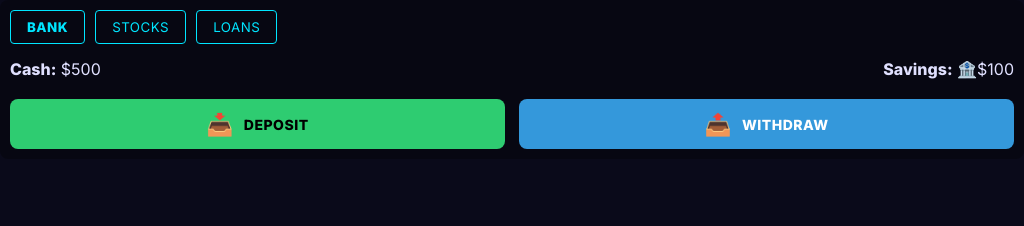
Test: BankInterface › BankInterface renders Stocks tab even when rules are passed and allows switching to Stocks tab
// Click Stocks tab
Click the button "Stocks". click: (141, 27)
box: [95,10,186,44]
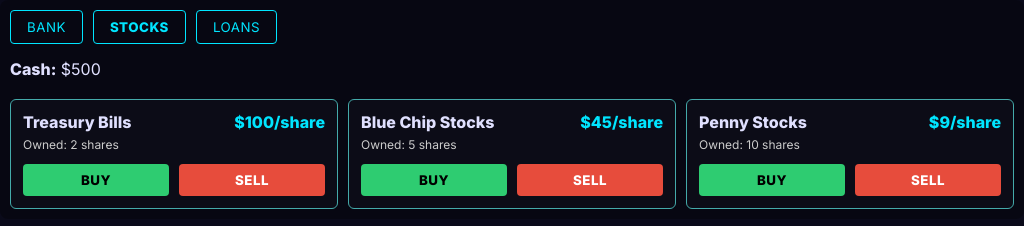
Check: the text "Treasury Bills" is shown, box [23,112,132,132]
Check: the text "Blue Chip Stocks" is shown, box [361,112,494,132]
Check: the text "Penny Stocks" is shown, box [699,112,807,132]
